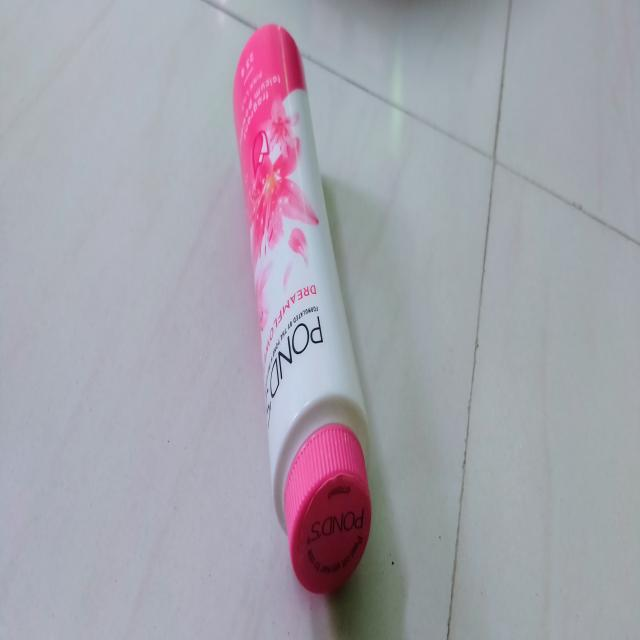powder: (230, 10, 374, 598)
